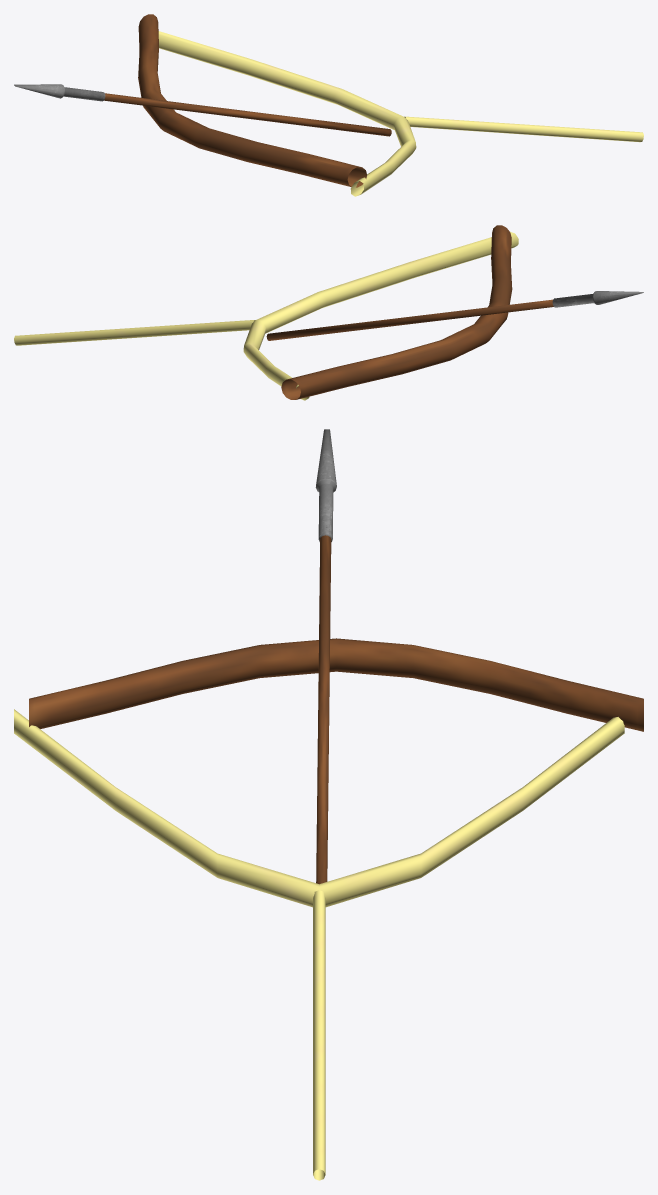
Rendered from CrossbowProjectile.fbx.
The picture shows the model from 3 angles, top to bottom: view 1: azimuth 30°, elevation 25°; view 2: azimuth 150°, elevation 25°; view 3: azimuth 270°, elevation 25°; orthographic projection. The views are drawn at different scales.
Visible parts, largest first — view 1: crossbow catapult.003, crossbow catapult.002, crossbow catapult.001, crossbow catapult.004; view 2: crossbow catapult.003, crossbow catapult.002, crossbow catapult.001, crossbow catapult.004; view 3: crossbow catapult.003, crossbow catapult.002, crossbow catapult.001, crossbow catapult.004.
Part boxes in pixels (x1,y1,x2,y2): crossbow catapult.003: (138,14,366,187); crossbow catapult.002: (158,31,416,196); crossbow catapult.001: (14,84,391,136); crossbow catapult.004: (404,116,643,142); crossbow catapult.003: (281,225,512,399); crossbow catapult.002: (243,231,518,400); crossbow catapult.001: (266,291,643,340); crossbow catapult.004: (14,320,255,345); crossbow catapult.003: (29,638,643,731); crossbow catapult.002: (14,709,624,907); crossbow catapult.001: (315,429,336,884); crossbow catapult.004: (313,890,325,1180).
Bounding box in the file's own units: 536 × 170 × 318.
